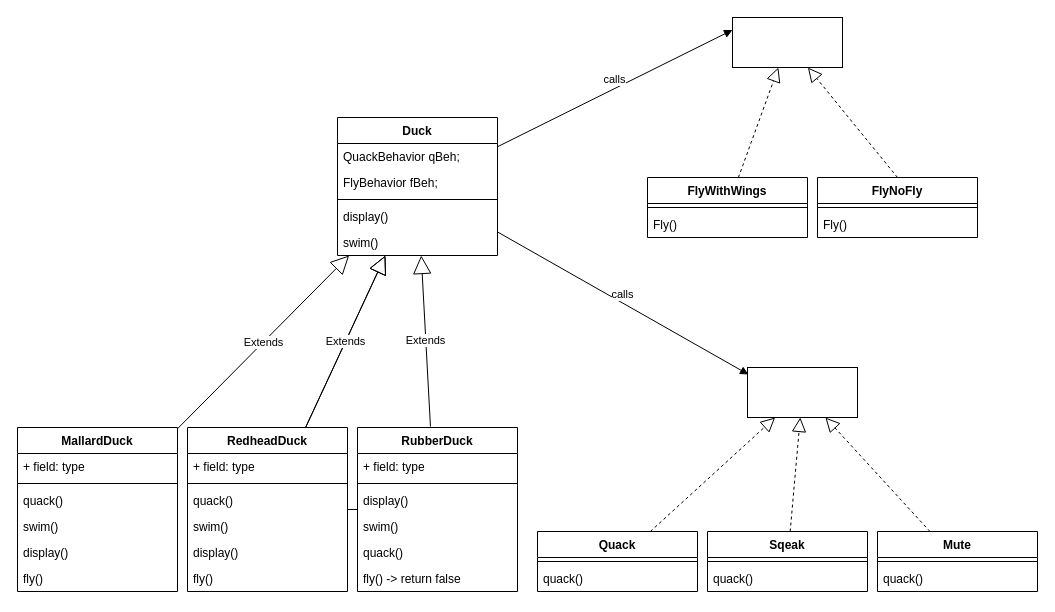
The diagram is 1055 pixels wide and 612 high, and some of its shapes have lost their labels. The shapes that lost their labels are listed below. From the top down, each one's centre as x and y in pixels, then its label:
At point 787,42: "«interface» FlyBehavior".
At point 802,392: "«interface» QuackBehavior".
